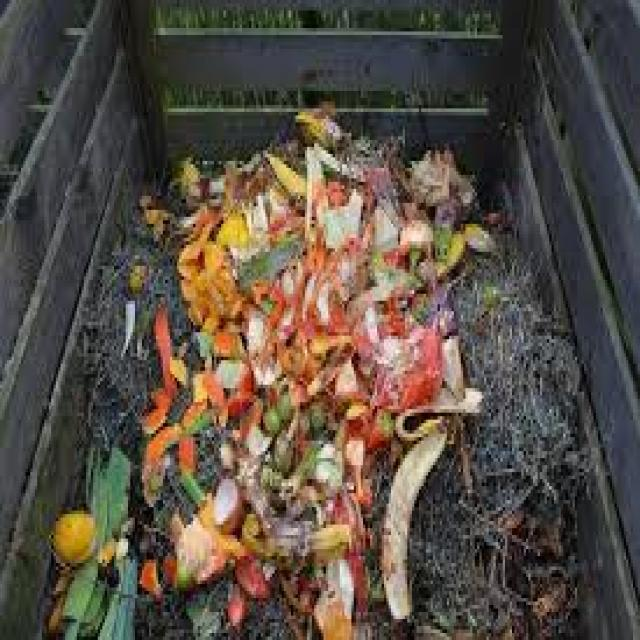food_waste: (220, 172, 422, 564)
